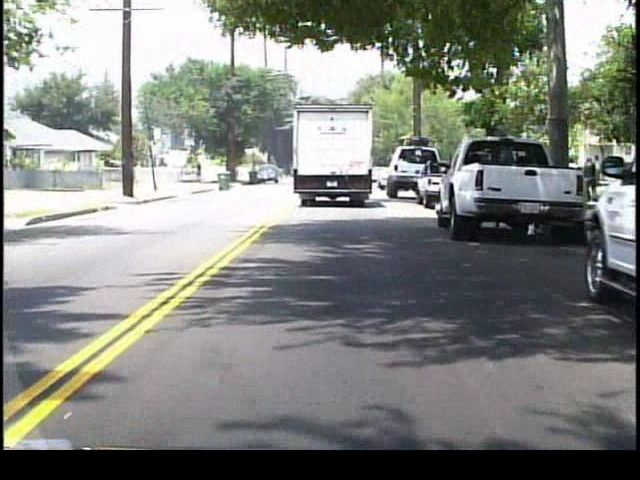person: (581, 156, 594, 200), (196, 162, 205, 185)
